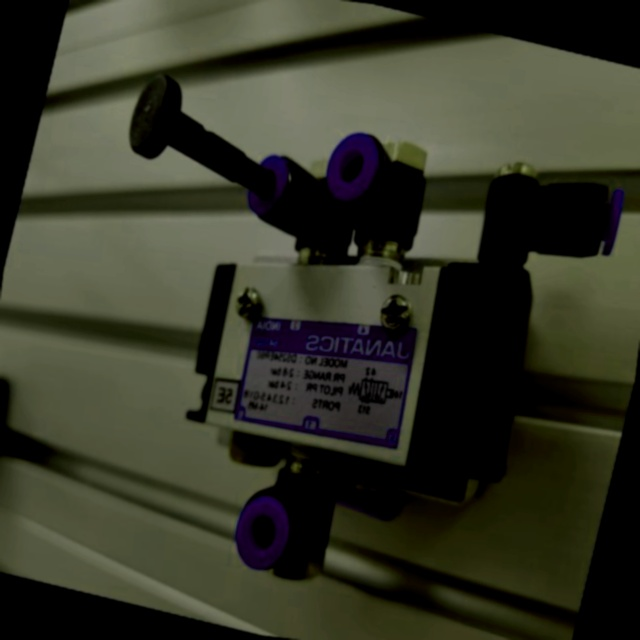5by2 DCV: (12, 41, 640, 640)
